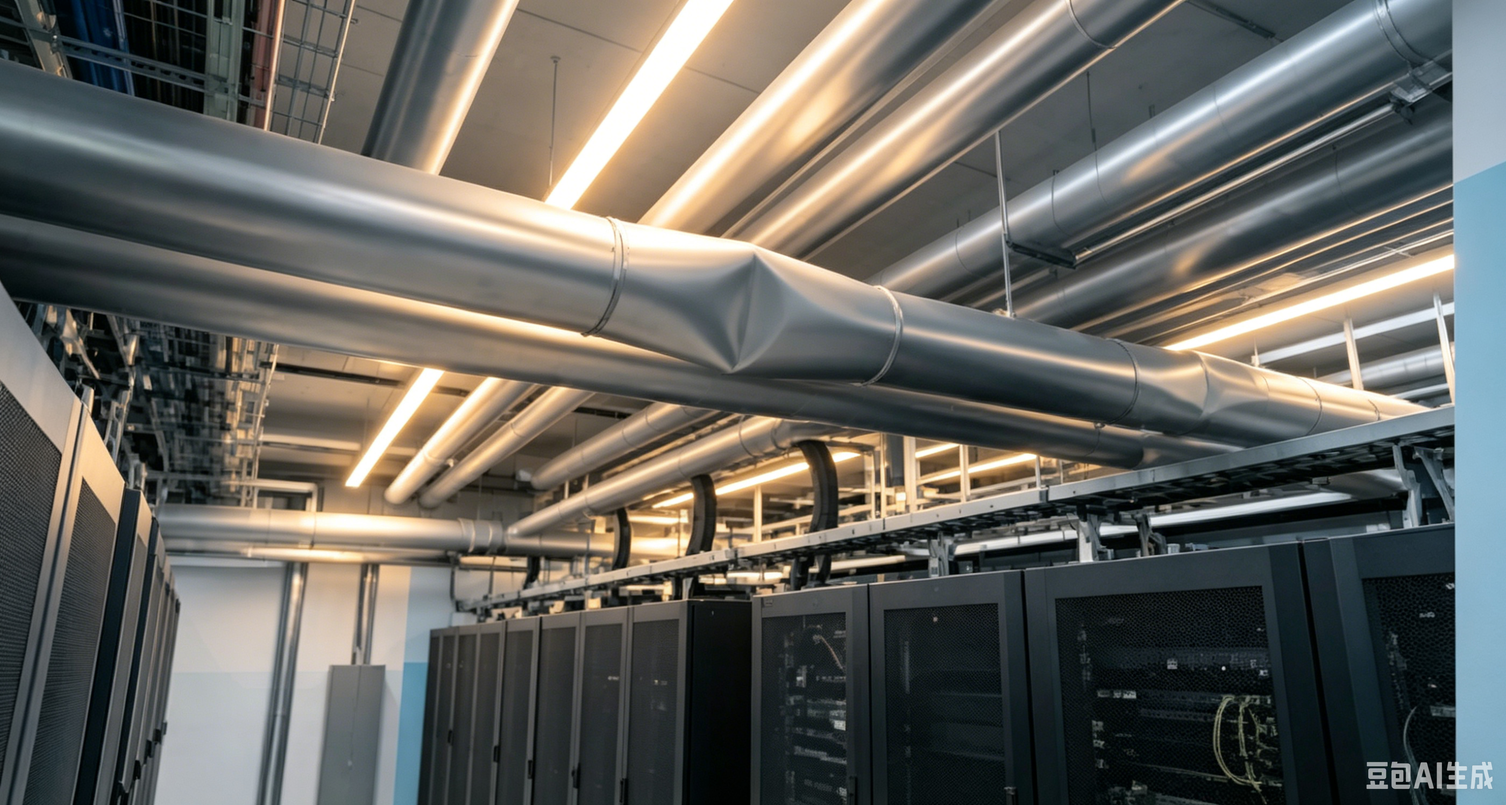Leakage: (686, 231, 807, 368), (1173, 350, 1251, 433)
